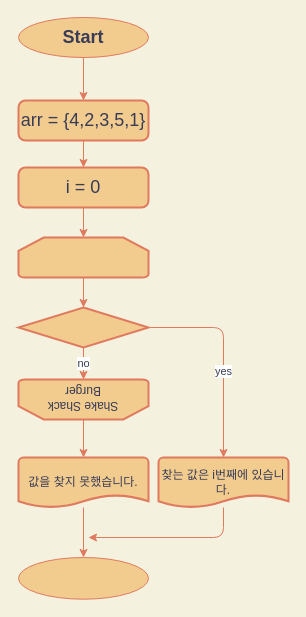
The diagram is 306 pixels wide and 617 high, and some of its shapes have lost their labels. The shapes that lost their labels are listed below. From the top down, each one's centre as x and y in pixels, then its label:
(x=83, y=257): i < 5
(x=83, y=327): arr[i] = 5
(x=83, y=577): end
